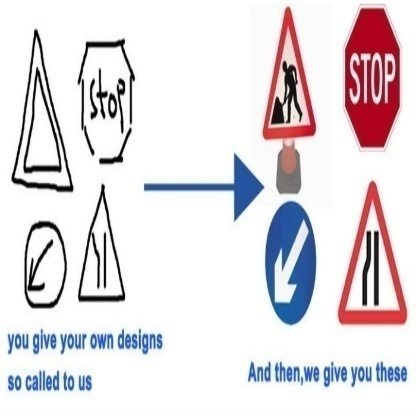stop: (342, 5, 401, 153)
